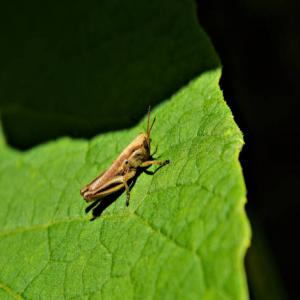locust: (73, 100, 173, 229)
